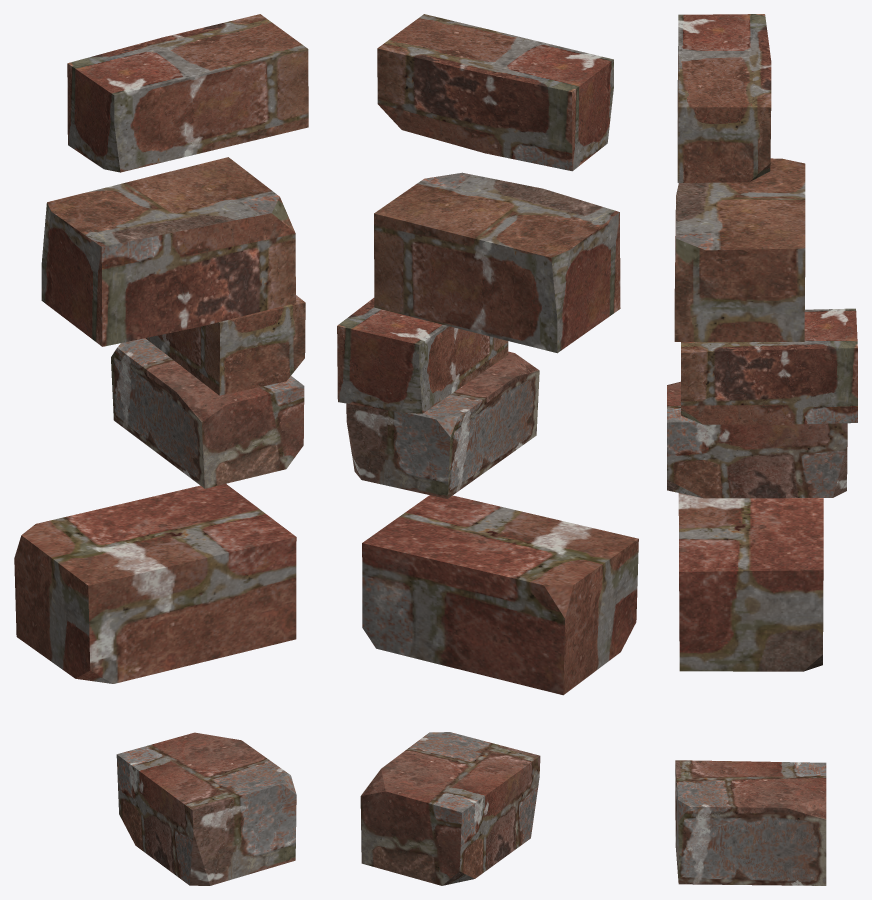
The model's file is SM_Wall_Corner_Half_04.fbx.
The picture shows the model from 3 angles, left to right: view 1: azimuth 30°, elevation 25°; view 2: azimuth 150°, elevation 25°; view 3: azimuth 270°, elevation 25°; orthographic projection. The views are drawn at different scales.
Parts seen in each view (by area): view 1: SM_Wall_Corner_Half_04_LOD0; view 2: SM_Wall_Corner_Half_04_LOD0; view 3: SM_Wall_Corner_Half_04_LOD0.
Part boxes in pixels (left/top/right/bottom): SM_Wall_Corner_Half_04_LOD0: left=14, top=14, right=308, bottom=885; SM_Wall_Corner_Half_04_LOD0: left=337, top=14, right=638, bottom=885; SM_Wall_Corner_Half_04_LOD0: left=667, top=14, right=857, bottom=885.
Size of what is drawn, in the model's own units: 85.5 by 303 by 66.37.
